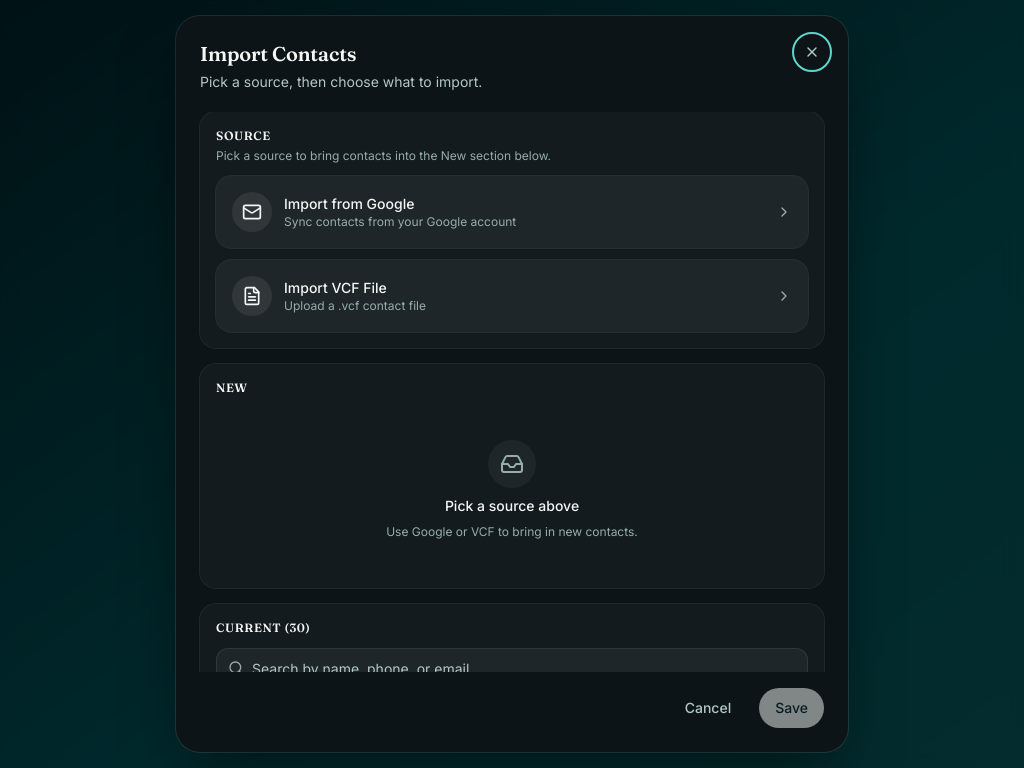
it: ImportDialog (integration) › connects to Google (mock) and lists contacts to import
The width and height of the screenshot is (1024, 768).
Click the text "Import from Google". click: (349, 204)
box: [284, 195, 414, 212]
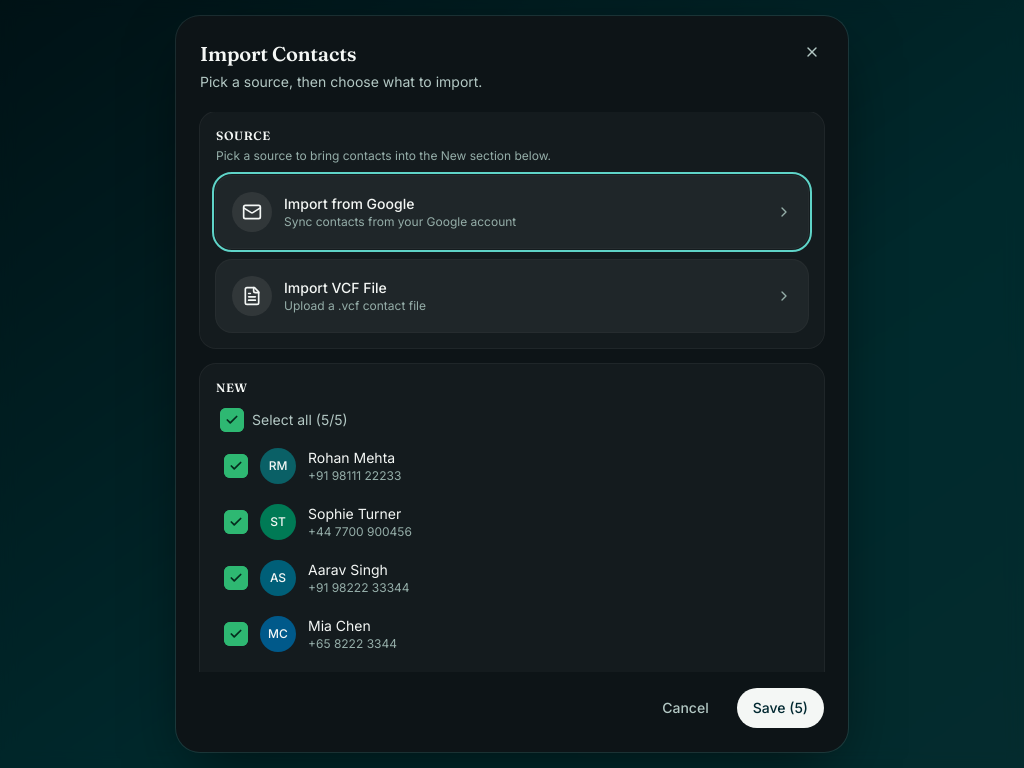
expect the text "Rohan Mehta" is shown: met, box [308, 449, 395, 466]
expect the button "Save (5)" is enabled: met, box [737, 688, 824, 728]
